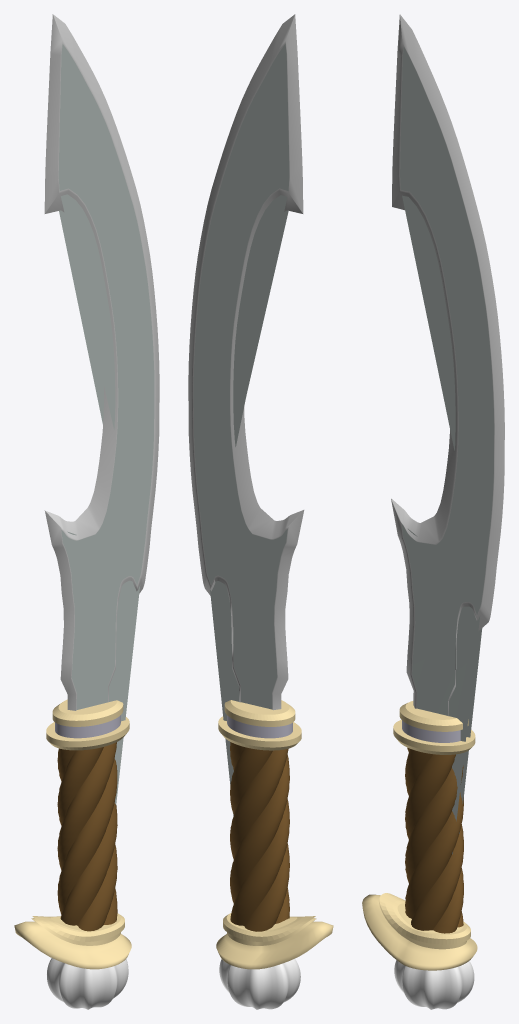
The model's file is sword test export.fbx.
3 views of the same model, side by side, from view 1: azimuth 30°, elevation 25°; view 2: azimuth 150°, elevation 25°; view 3: azimuth 330°, elevation 25° (orthographic).
Visible parts, largest first — view 1: Blade, Handle, Handle_Decor, Orb; view 2: Blade, Handle, Handle_Decor, Orb; view 3: Blade, Handle, Handle_Decor, Orb.
Part boxes in pixels (bbox=[...]): Blade: bbox=[44, 14, 159, 805]; Handle: bbox=[57, 742, 117, 931]; Handle_Decor: bbox=[14, 699, 131, 969]; Orb: bbox=[47, 958, 128, 1009]; Blade: bbox=[188, 14, 304, 816]; Handle: bbox=[230, 742, 289, 931]; Handle_Decor: bbox=[216, 700, 333, 969]; Orb: bbox=[219, 958, 300, 1009]; Blade: bbox=[391, 14, 504, 854]; Handle: bbox=[405, 747, 463, 933]; Handle_Decor: bbox=[362, 701, 477, 970]; Orb: bbox=[394, 960, 474, 1009].
Bounding box in the file's own units: 0.5935 × 4.02 × 0.3145.
